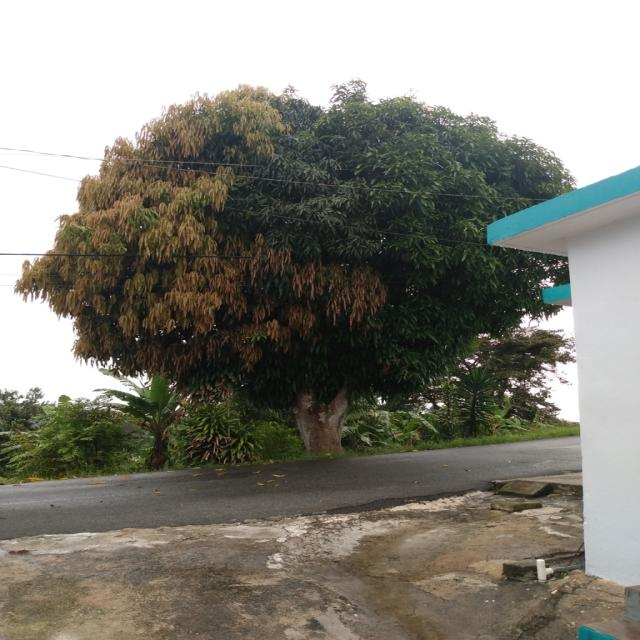Mango-Tree: (23, 99, 491, 446)
